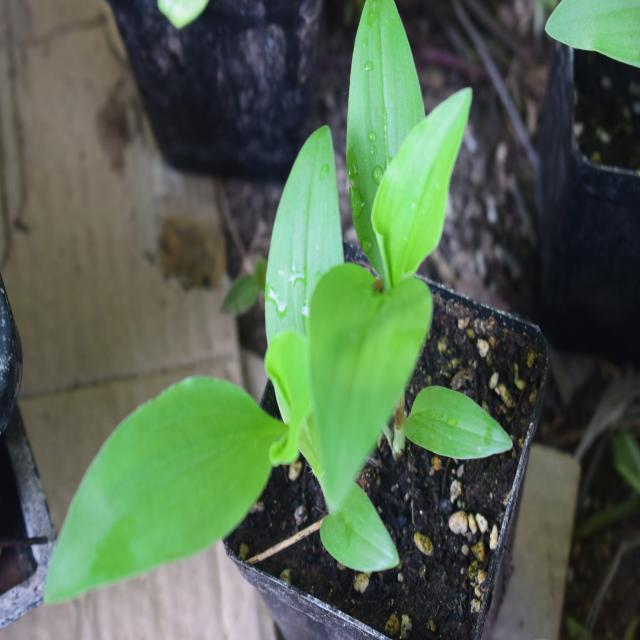Common Dayflower: (223, 0, 482, 509), (44, 353, 268, 577)
